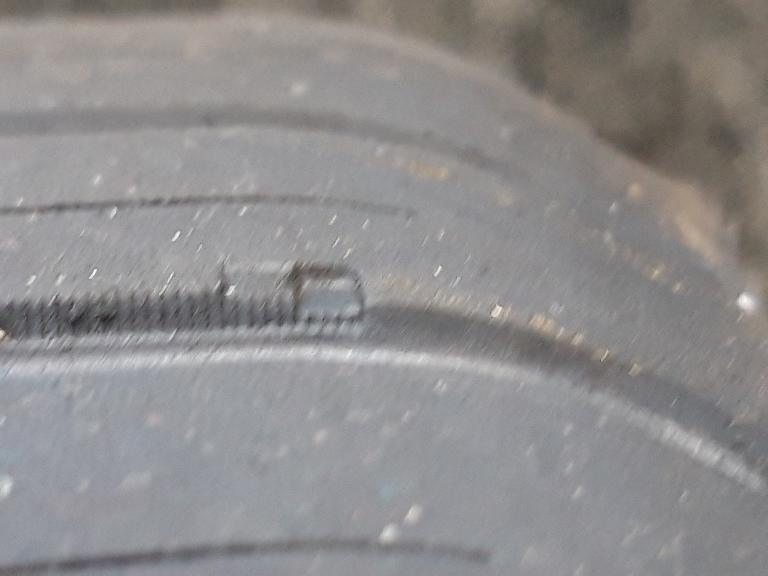temoin:25: (210, 254, 371, 340)
